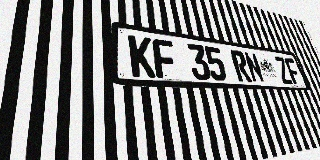3: (186, 43, 212, 80)
5: (204, 46, 228, 81)
F: (151, 38, 178, 79), (283, 58, 303, 85)
K: (128, 35, 156, 78)
N: (243, 52, 265, 83)
R: (230, 50, 252, 82)
Z: (273, 56, 294, 84)
